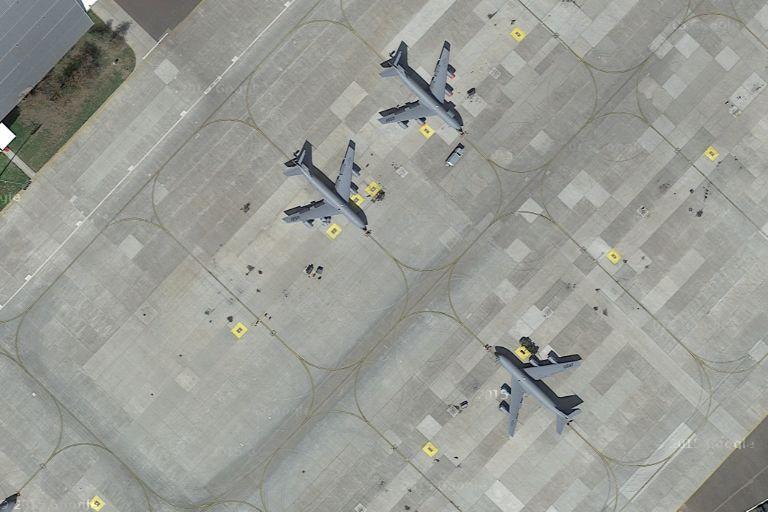KC-135: (278, 141, 376, 237), (376, 40, 469, 140), (488, 346, 584, 437)
